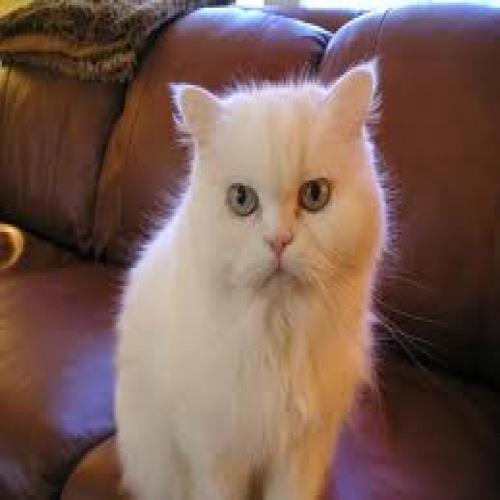persian: (160, 57, 400, 314)
